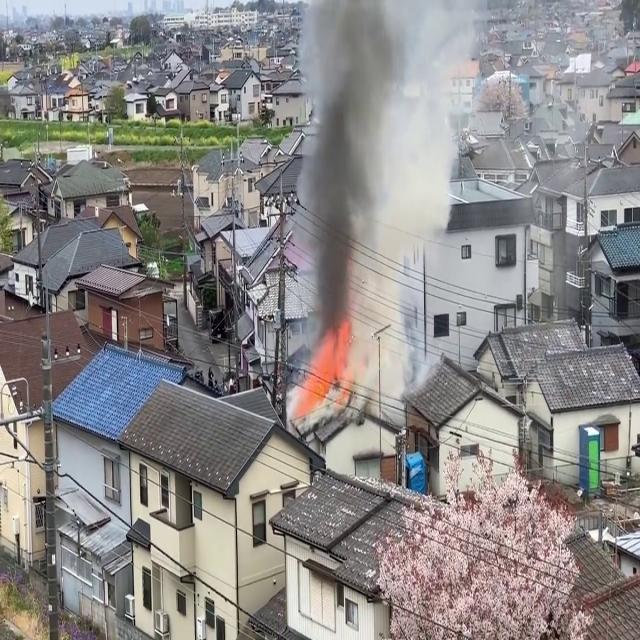Fire: (292, 324, 356, 416)
Smoke: (291, 1, 424, 394)
